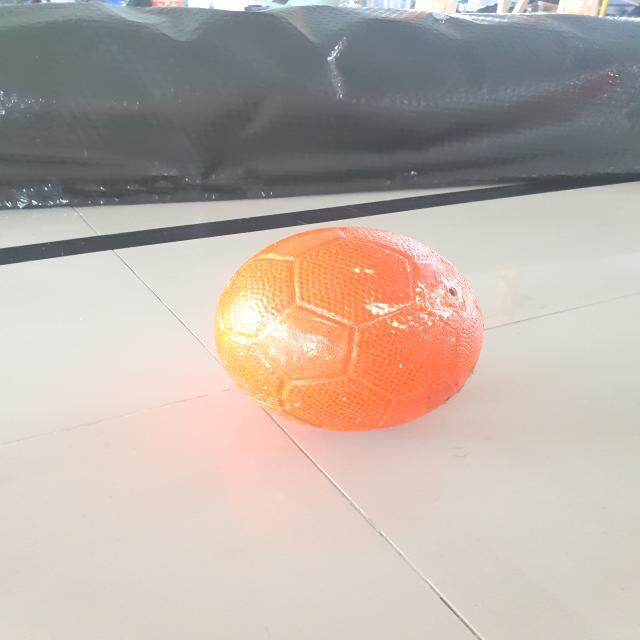bola: (212, 222, 484, 436)
